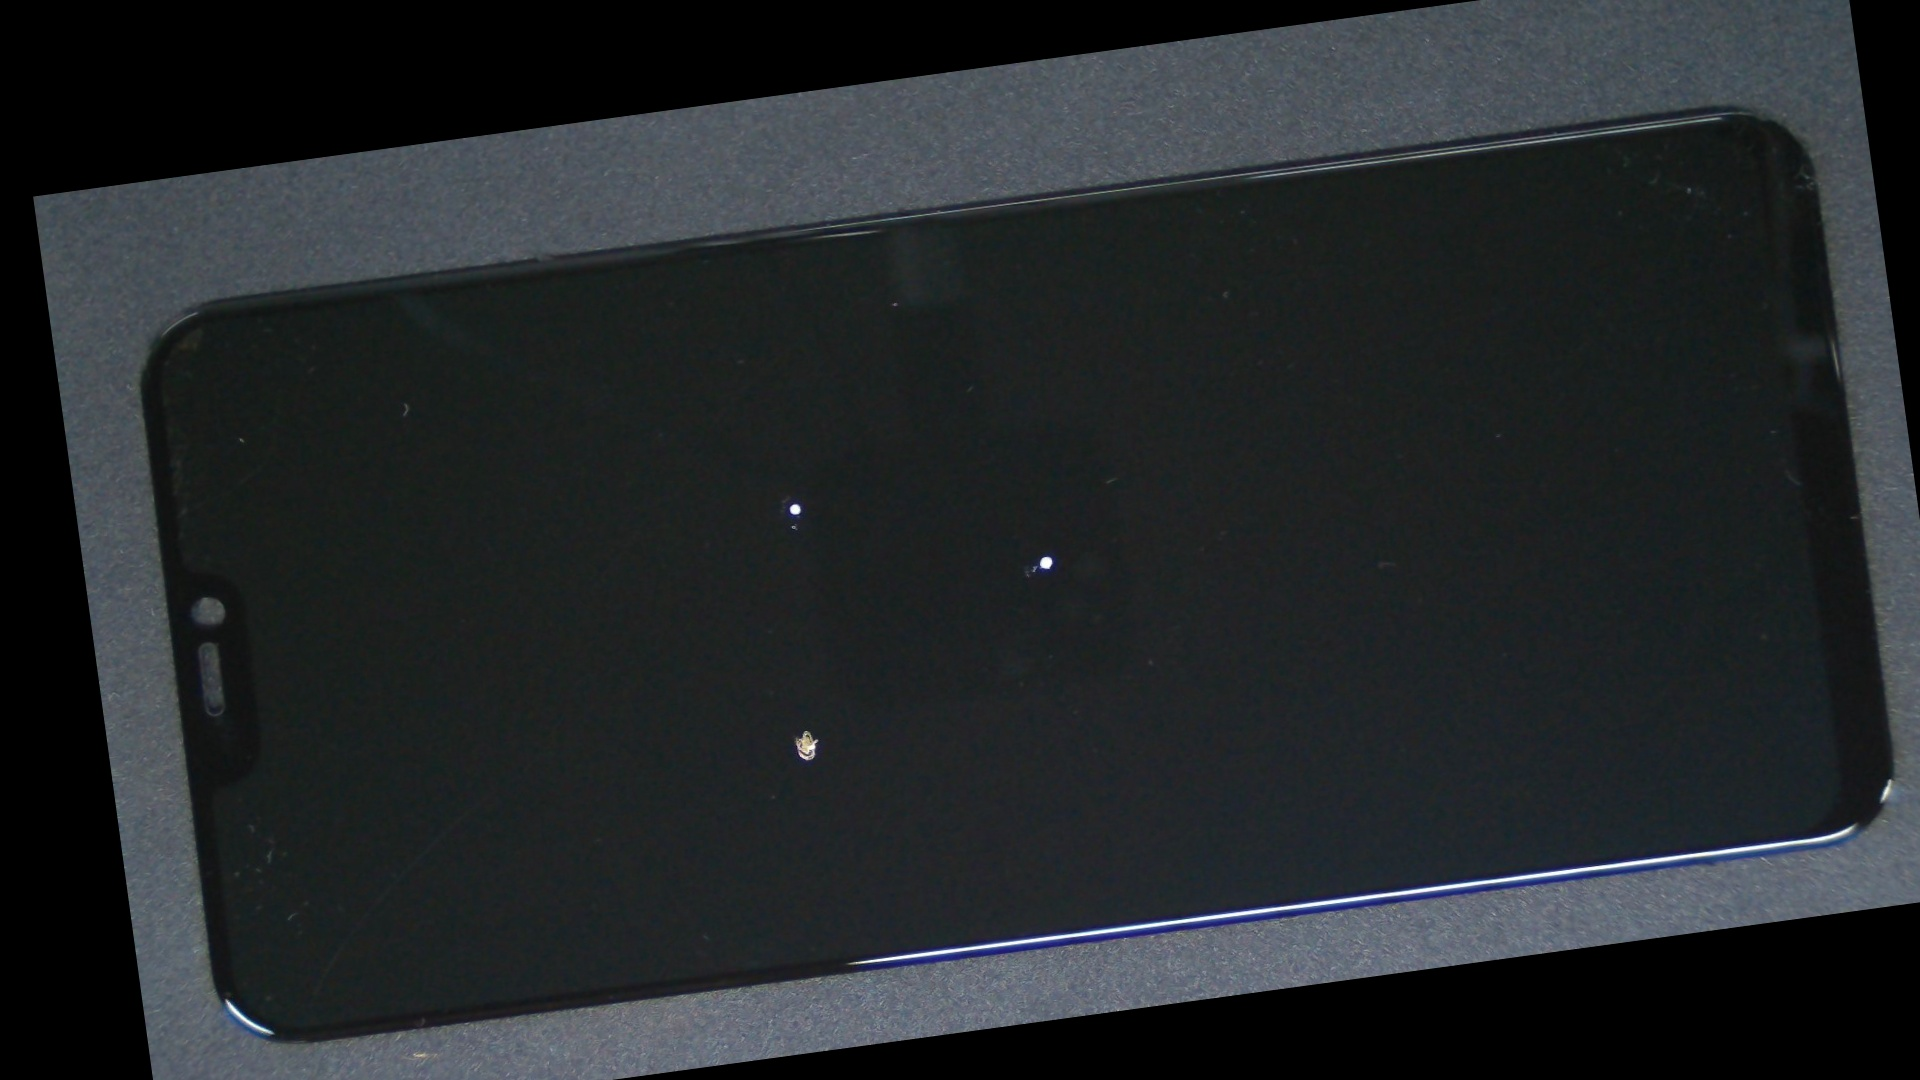oil: (541, 247, 1556, 864), (418, 369, 1187, 1080), (413, 253, 1170, 753)
